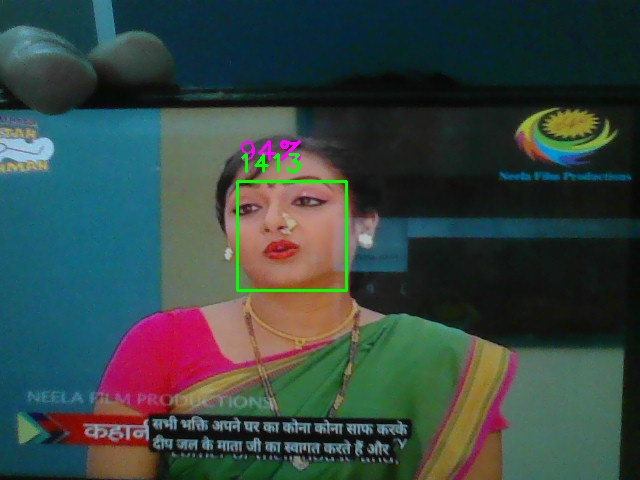fake: (237, 181, 347, 291)
